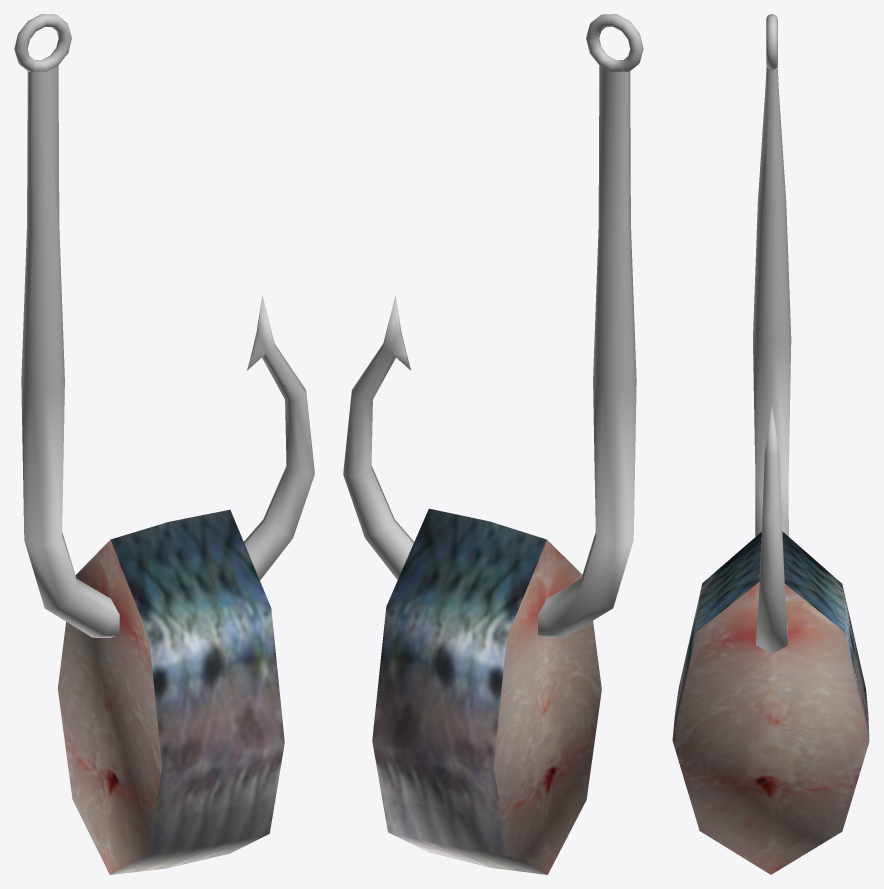
File: Bait_SpotlinedSardine.fbx
3 views of the same model, side by side, from view 1: azimuth 30°, elevation 25°; view 2: azimuth 150°, elevation 25°; view 3: azimuth 270°, elevation 25° (orthographic). The views are drawn at different scales.
Parts seen in each view (by area): view 1: Bait_Sardine; view 2: Bait_Sardine; view 3: Bait_Sardine.
Boxes of the visible parts, left/top/right/bottom form: Bait_Sardine: left=14, top=14, right=314, bottom=874; Bait_Sardine: left=343, top=14, right=643, bottom=874; Bait_Sardine: left=672, top=14, right=869, bottom=874.
Bounding box in the file's own units: 0.2116 × 0.5974 × 0.137.
